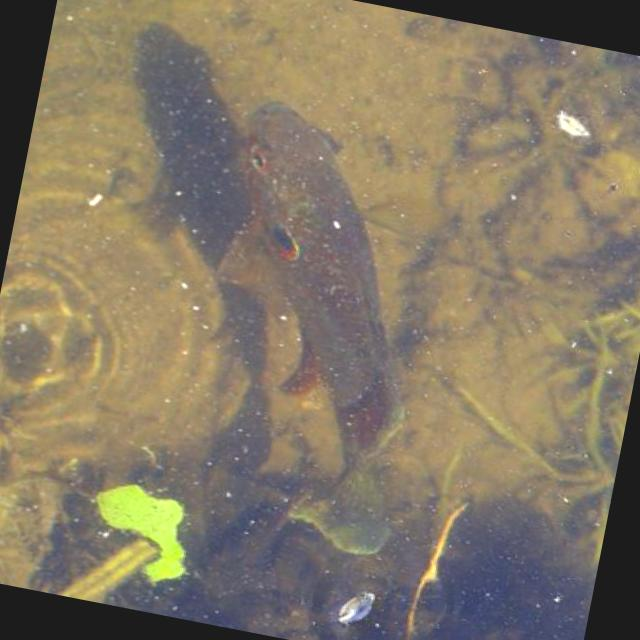Gunes Levregi: (148, 88, 470, 567)
